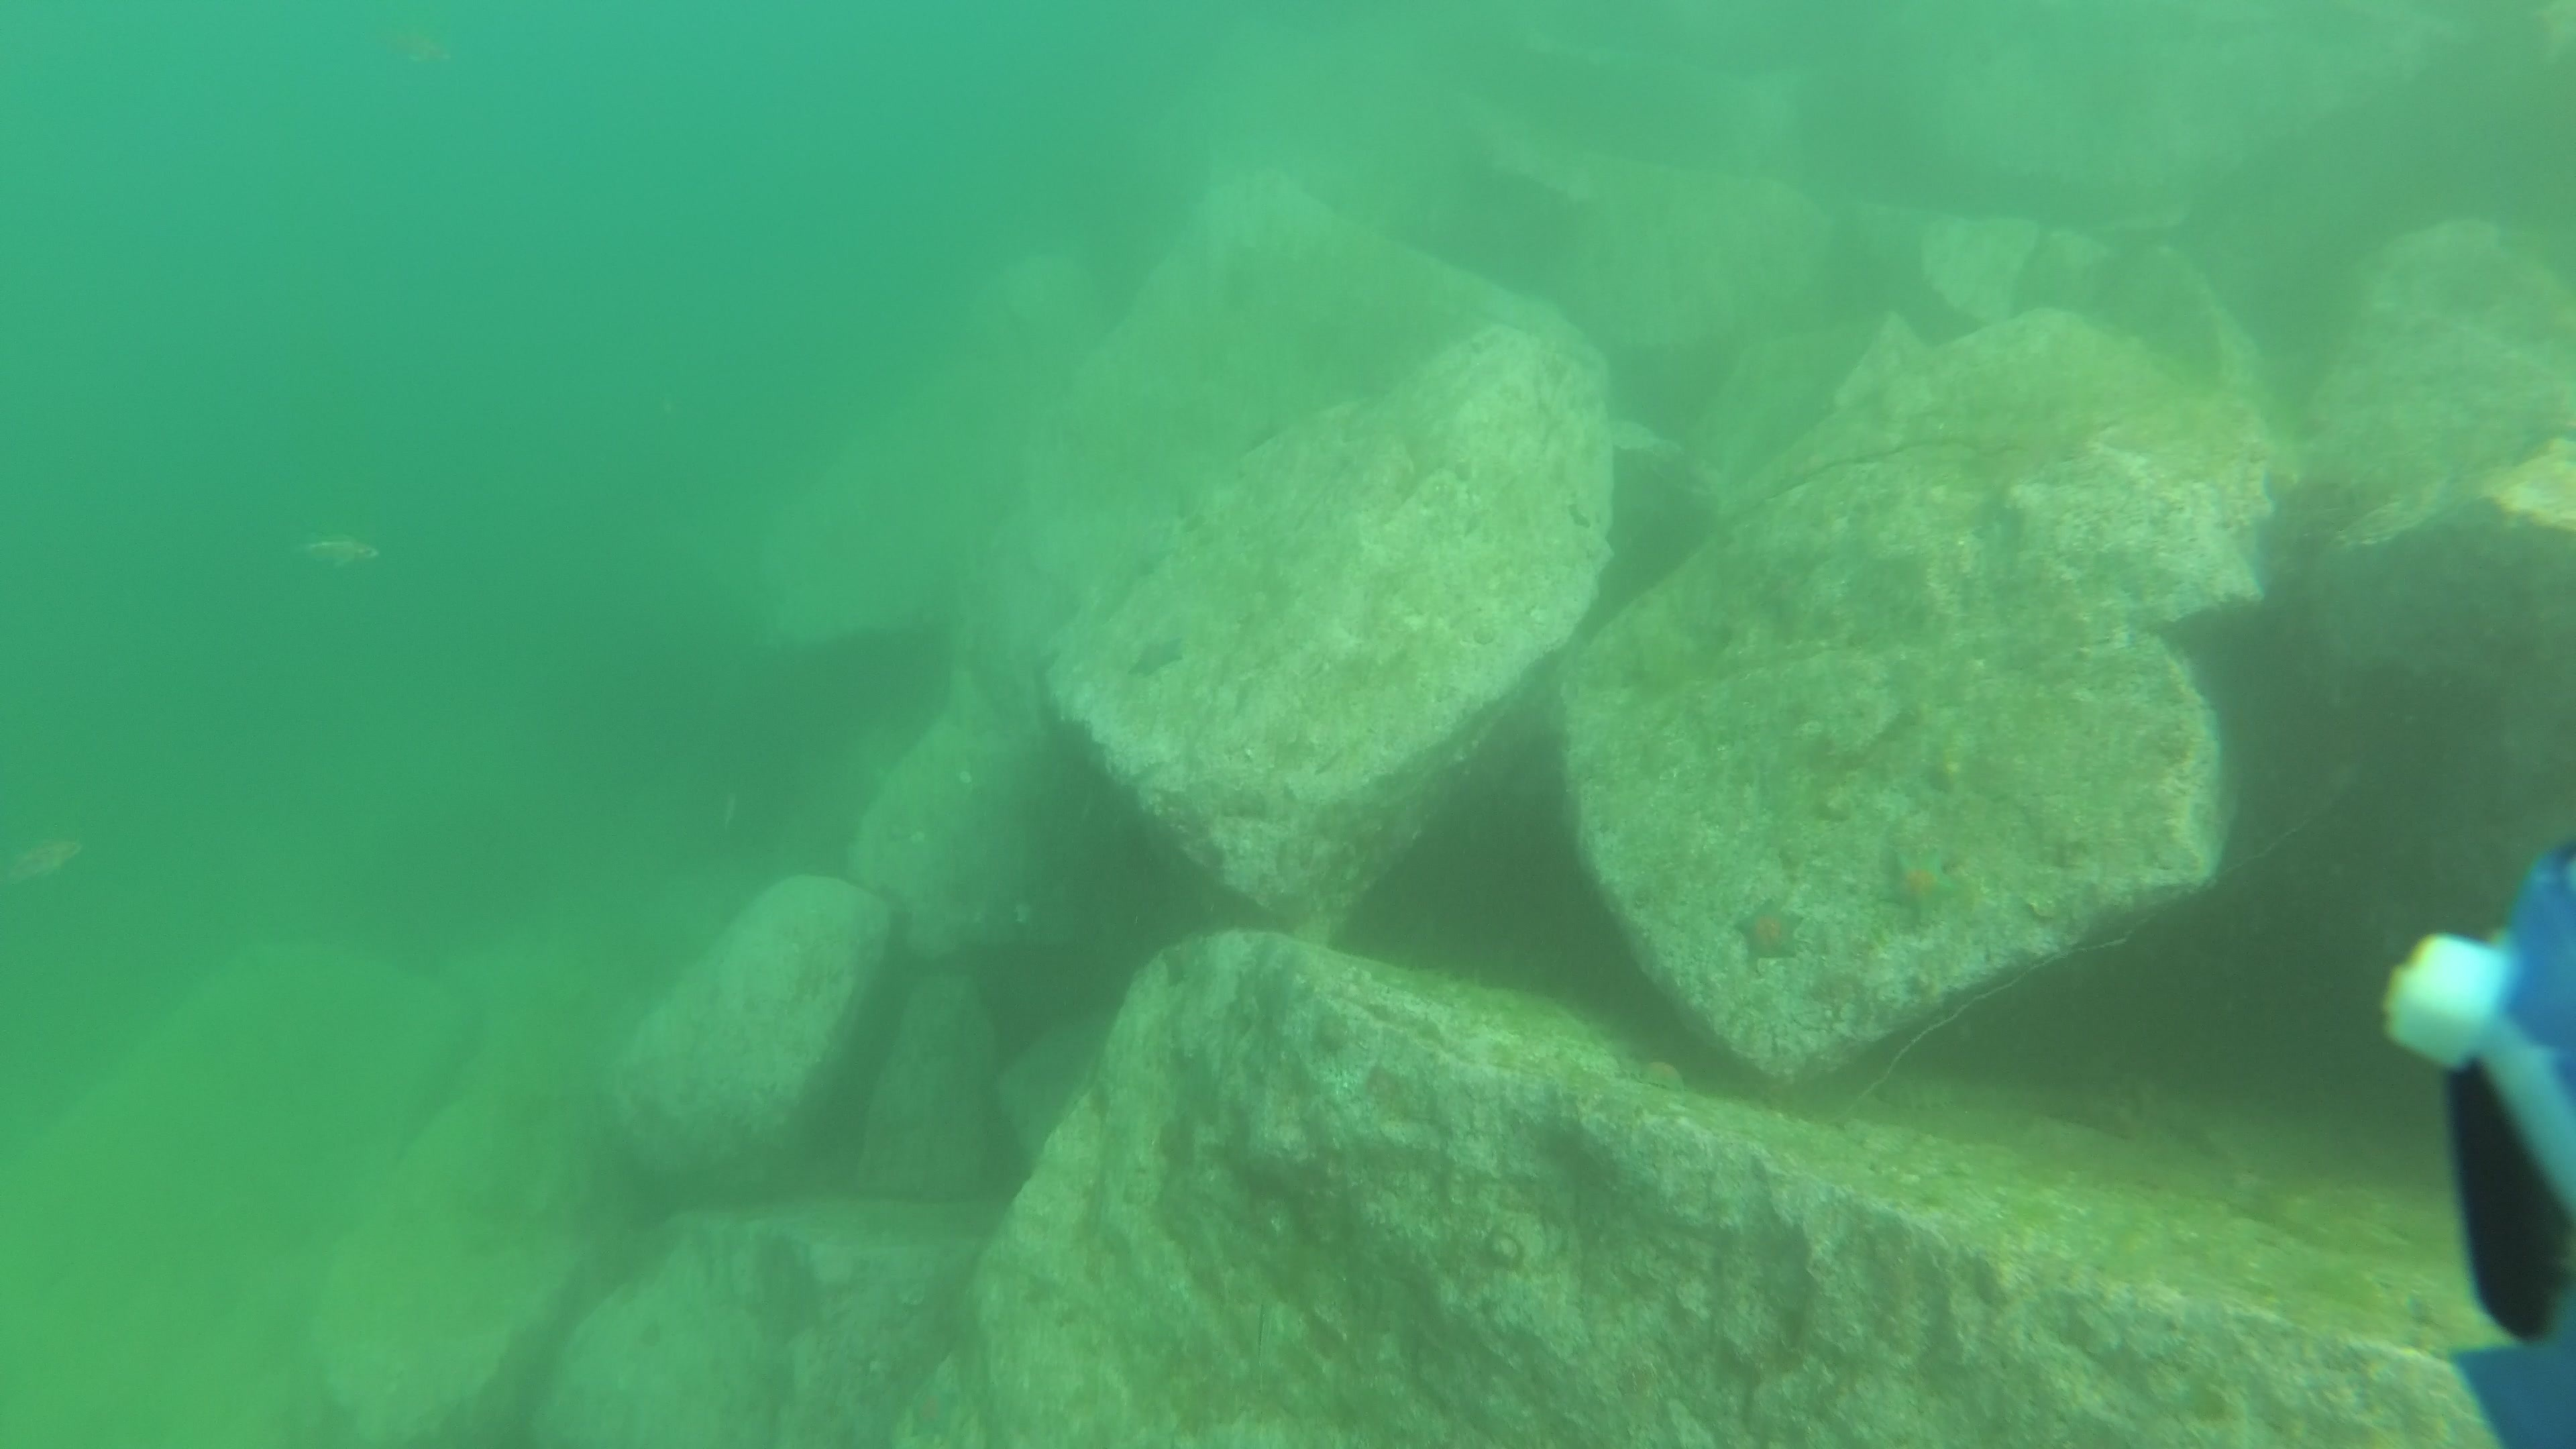holothurian: (1870, 1076, 1974, 1113)
starfish: (1877, 840, 1962, 927), (1729, 895, 1808, 964), (1125, 632, 1192, 683), (1629, 1054, 1690, 1097)
